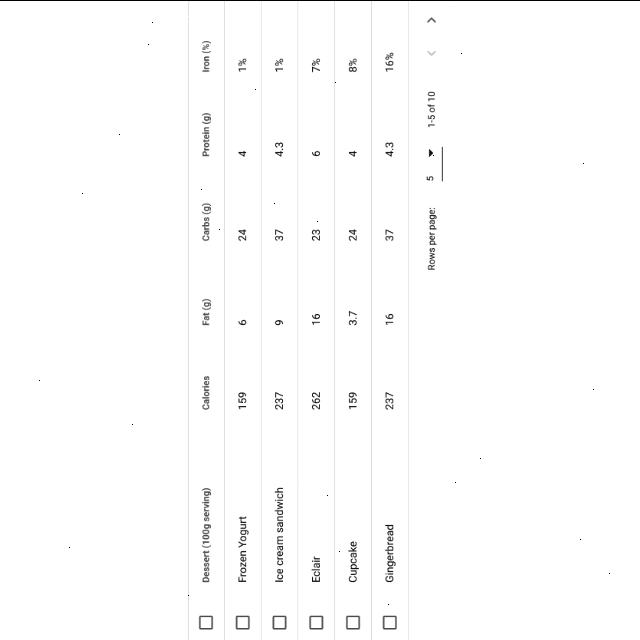VDataTable: (188, 0, 452, 640)
